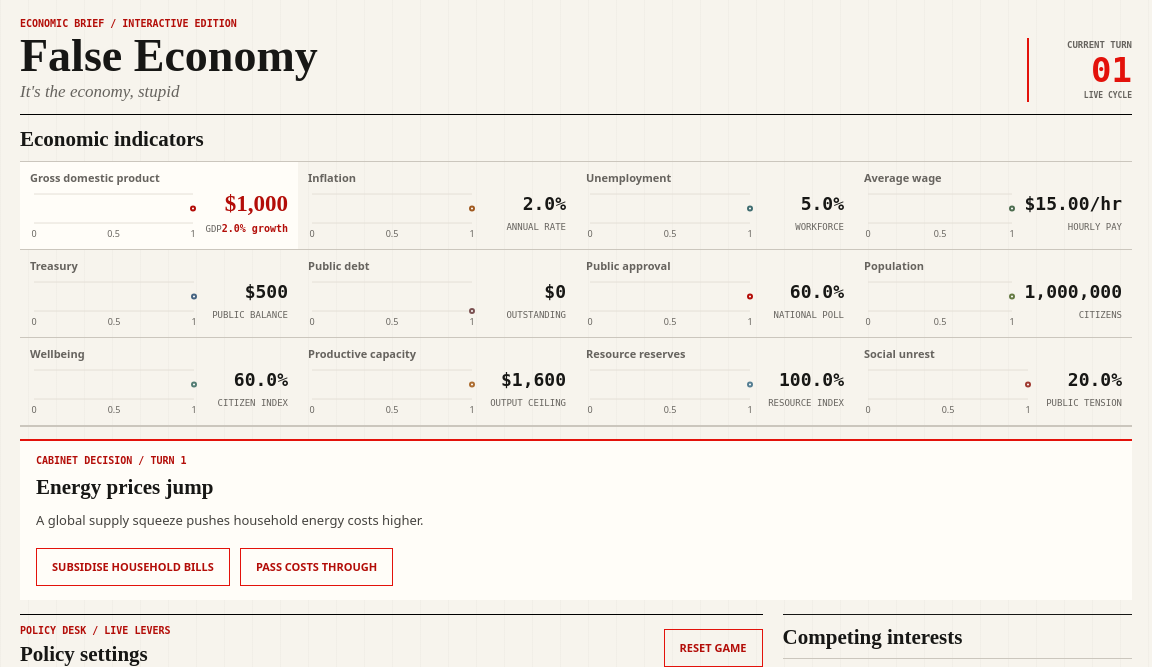
Scenario: Economy Simulator interface › uses a fallback message for a non-Error event request failure
This screenshot has width=1152, height=667.
Expected: the heading "Energy prices jump" is shown, x1=36 y1=475 x2=213 y2=499
Click the button "subsidise household bills" at (133, 567), box x1=36 y1=548 x2=230 y2=586
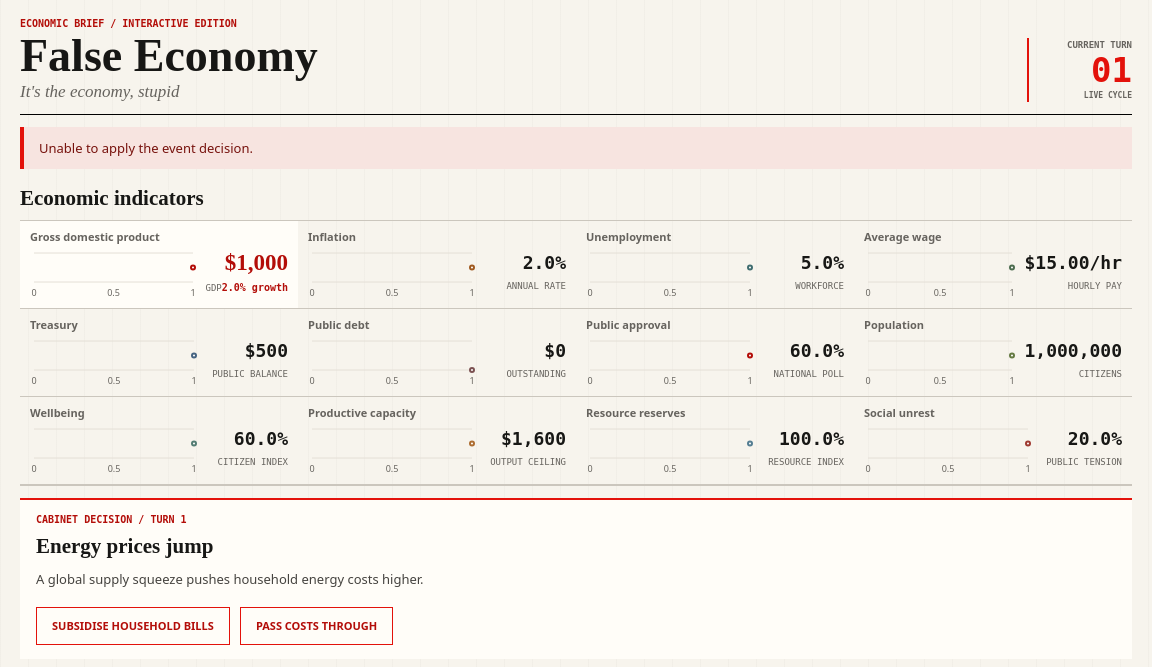
Now the message reads "Unable to apply the event decision.", box x1=39 y1=140 x2=253 y2=158
